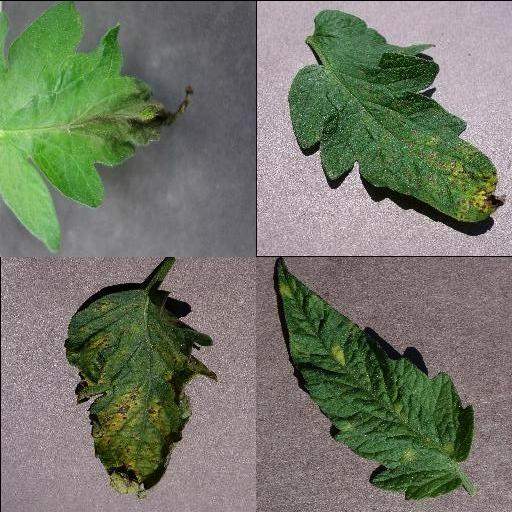Late Blight: (0, 0, 195, 254)
Leaf Mold: (274, 256, 474, 498)
Septoria: (285, 8, 505, 221), (64, 286, 217, 498)
